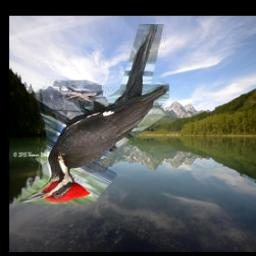Woodpecker: (16, 25, 170, 205)
